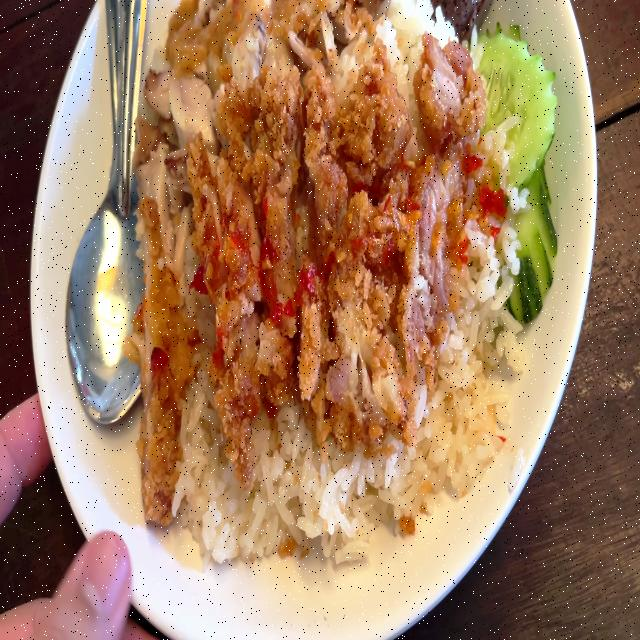boiled_chicken: (139, 0, 389, 86)
boiled_chicken_blood_jelly: (433, 0, 492, 46)
chicken_rice: (127, 0, 564, 565)
cucumber: (472, 27, 558, 325)
fried_chicken: (142, 101, 431, 481)
